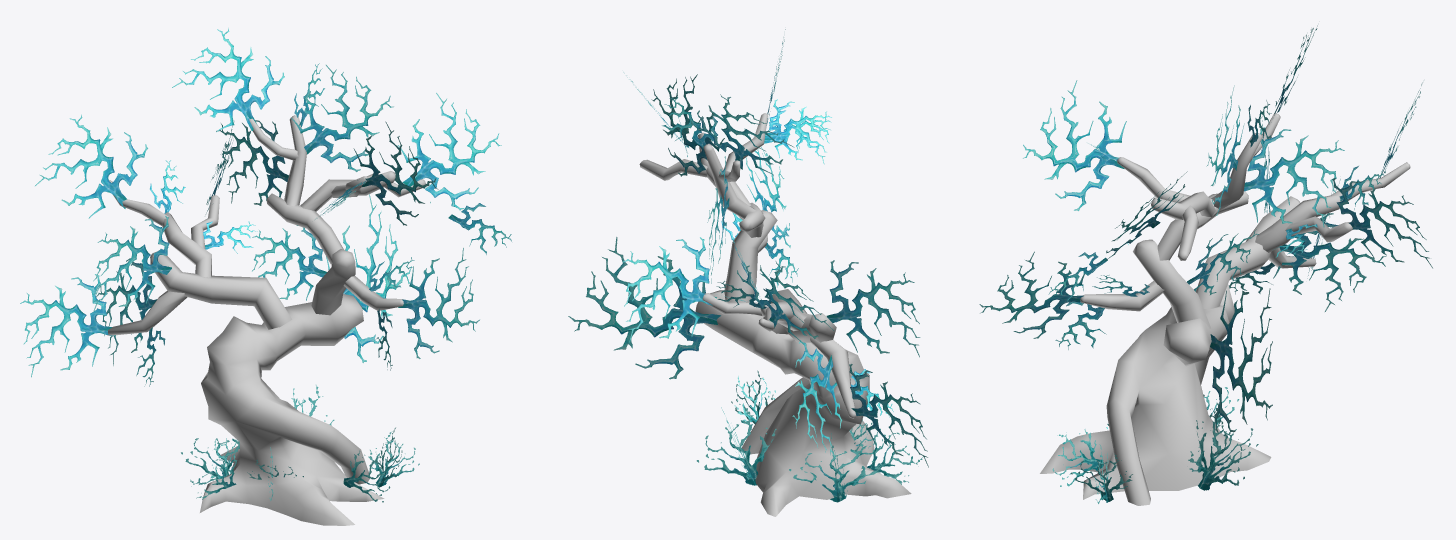
File: tree_crystal_01.FBX
The picture shows the model from 3 angles, left to right: view 1: azimuth 30°, elevation 25°; view 2: azimuth 150°, elevation 25°; view 3: azimuth 270°, elevation 25°; orthographic projection. The views are drawn at different scales.
Parts seen in each view (by area): view 1: Object06; view 2: Object06; view 3: Object06.
Boxes of the visible parts, x1=… form: Object06: x1=20, y1=28, x2=511, y2=525; Object06: x1=568, y1=29, x2=928, y2=516; Object06: x1=979, y1=25, x2=1432, y2=505.
Size of the model in its own units: 271 by 289 by 257.
